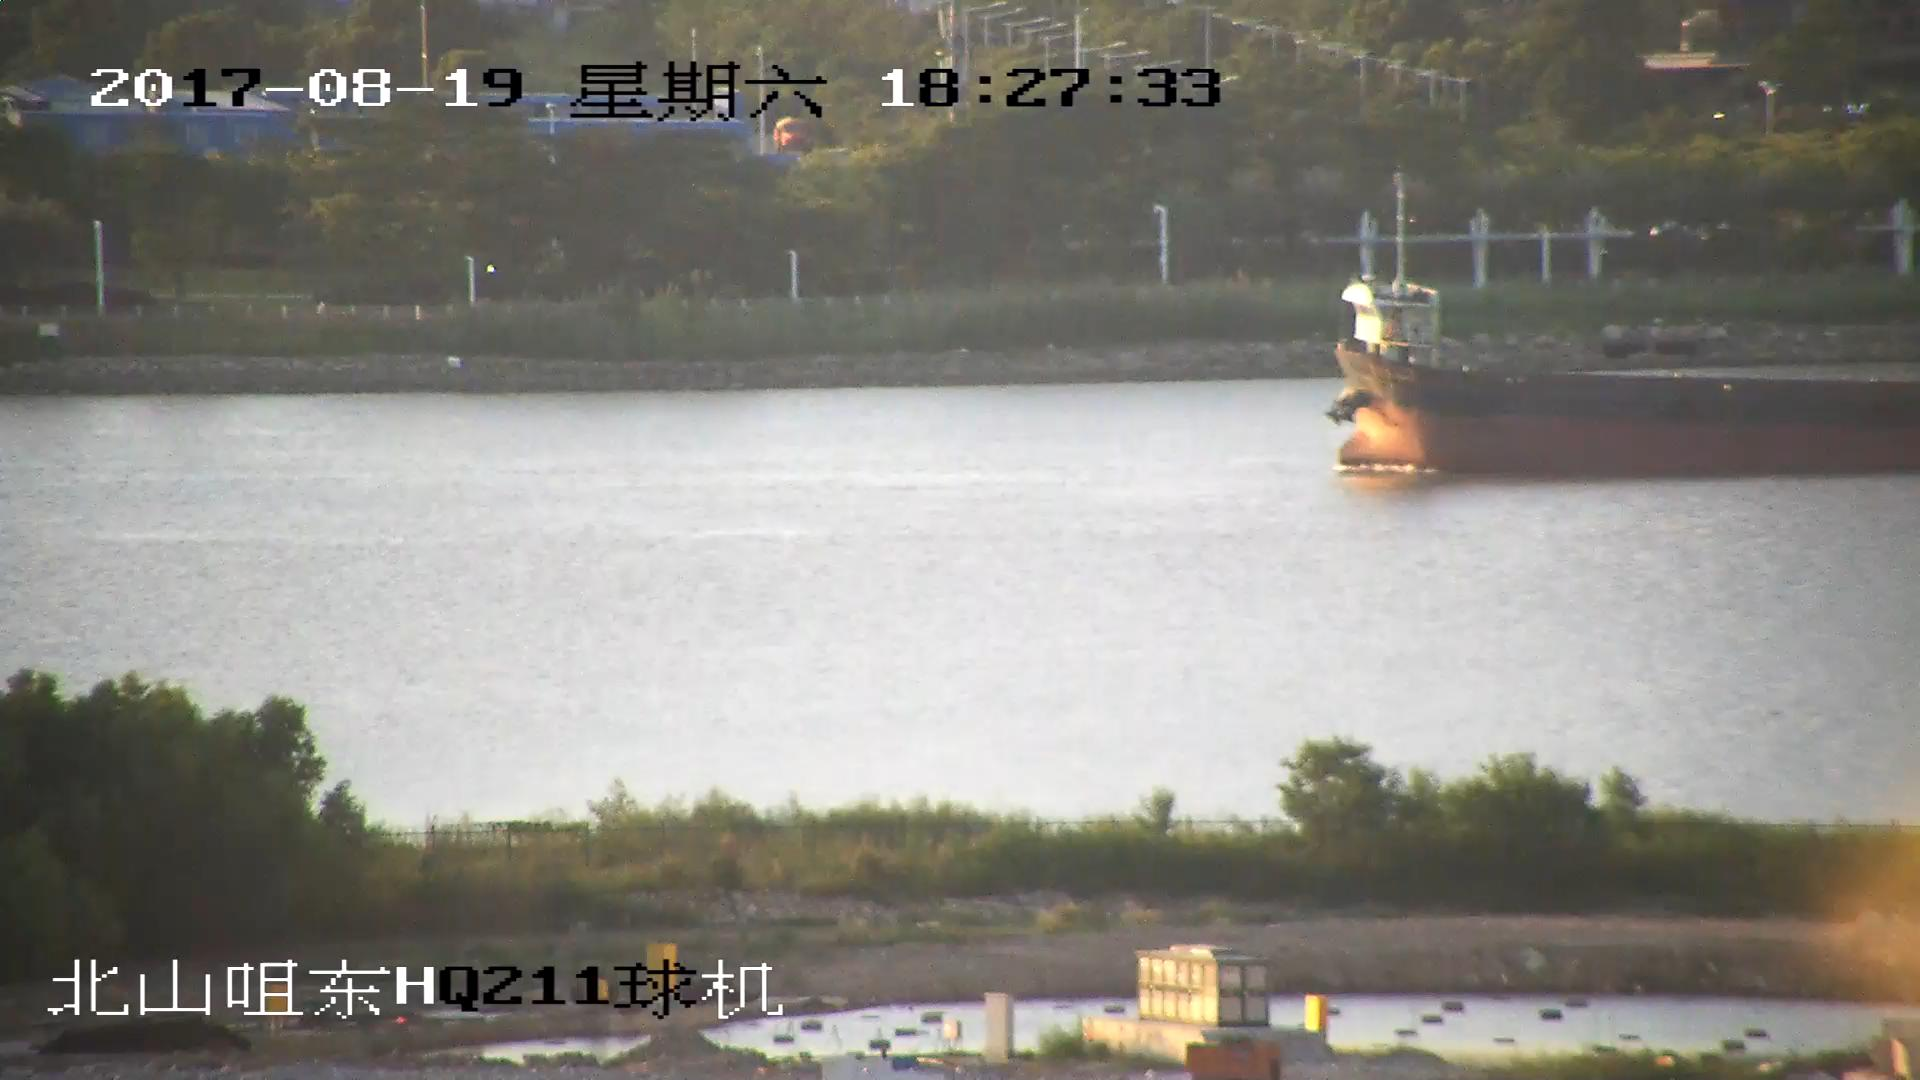general cargo ship: (1334, 279, 1920, 486)
